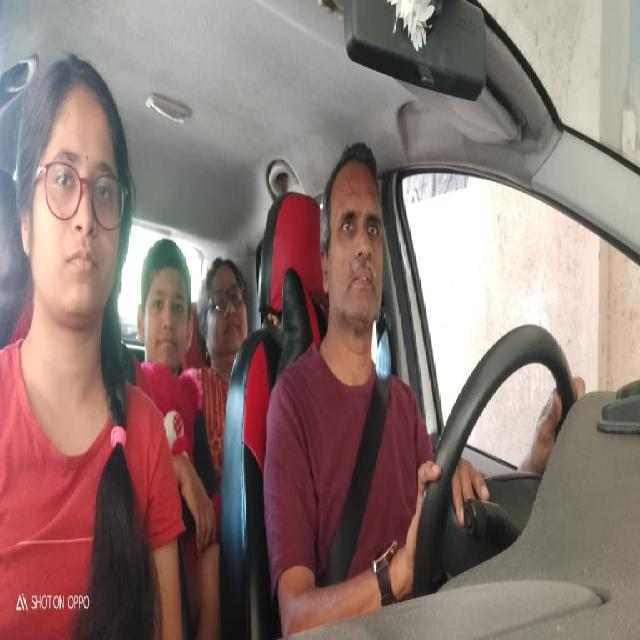person: (15, 54, 136, 340), (316, 133, 393, 342), (136, 235, 194, 398), (199, 243, 254, 375)
